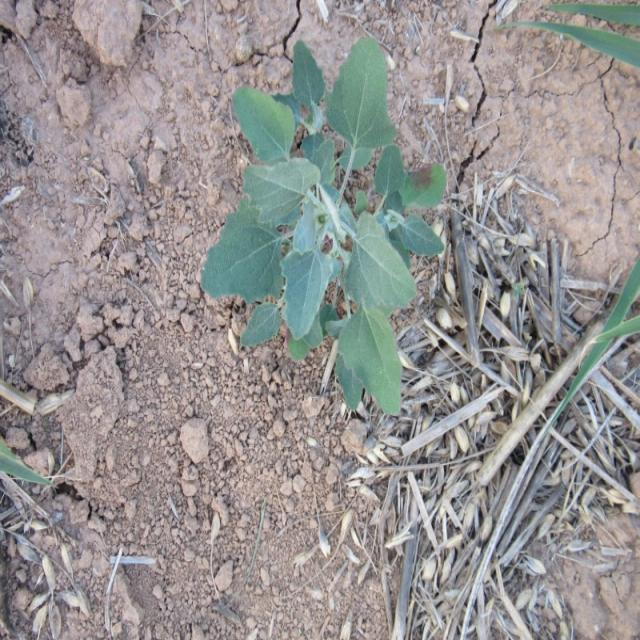ca: (204, 43, 444, 419)
